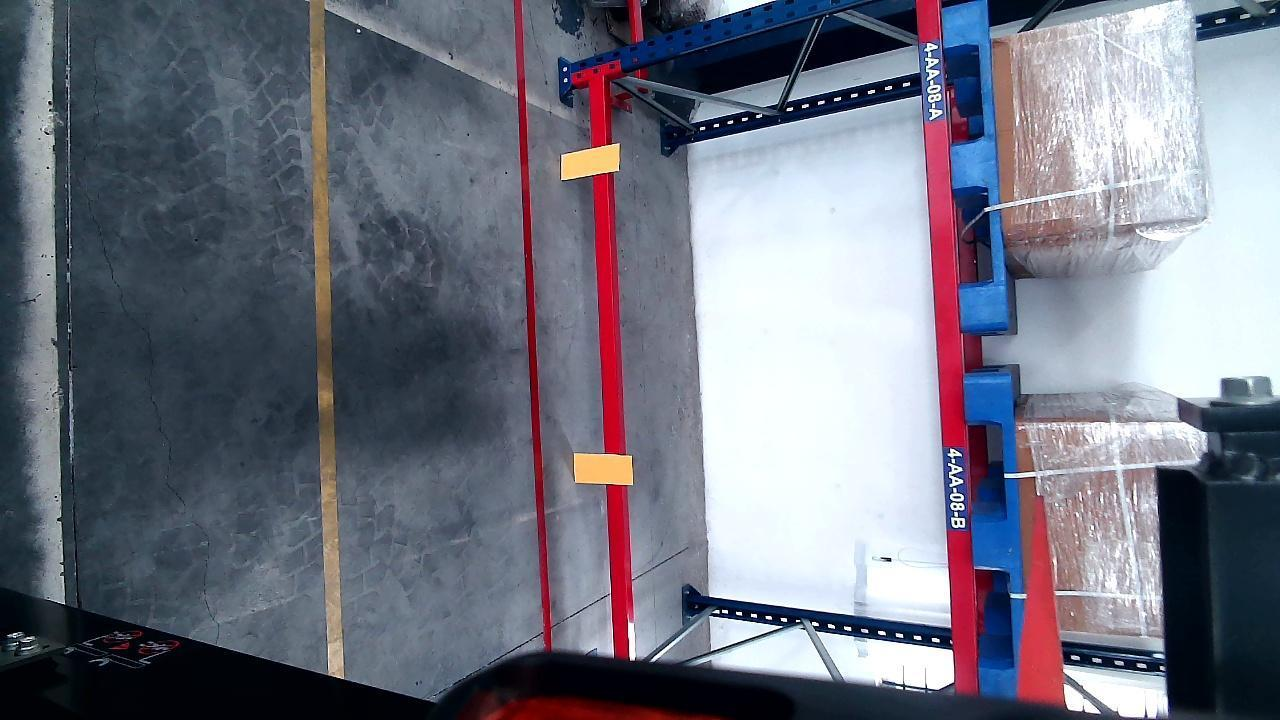h_rack: (922, 0, 980, 698), (588, 72, 629, 636)
orange_strip: (561, 143, 619, 178), (573, 452, 633, 484)
small_pallet: (944, 0, 1005, 327), (968, 375, 1032, 678)
yellow_line: (309, 9, 344, 674)
